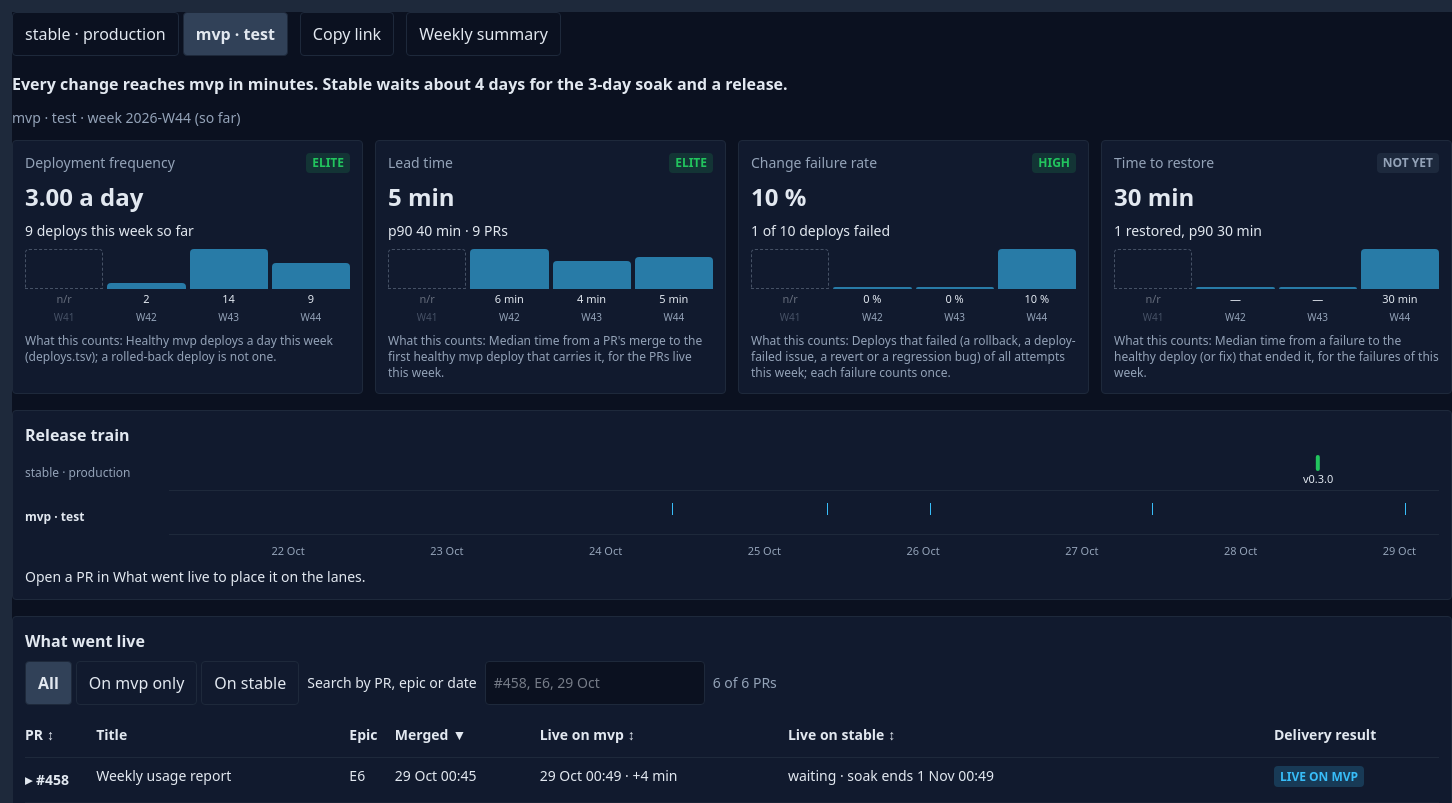
Test: Weekly summary and Copy link › Copy link copies this view's address
Click the button "Copy link" at [347, 34], box [300,12,394,56]
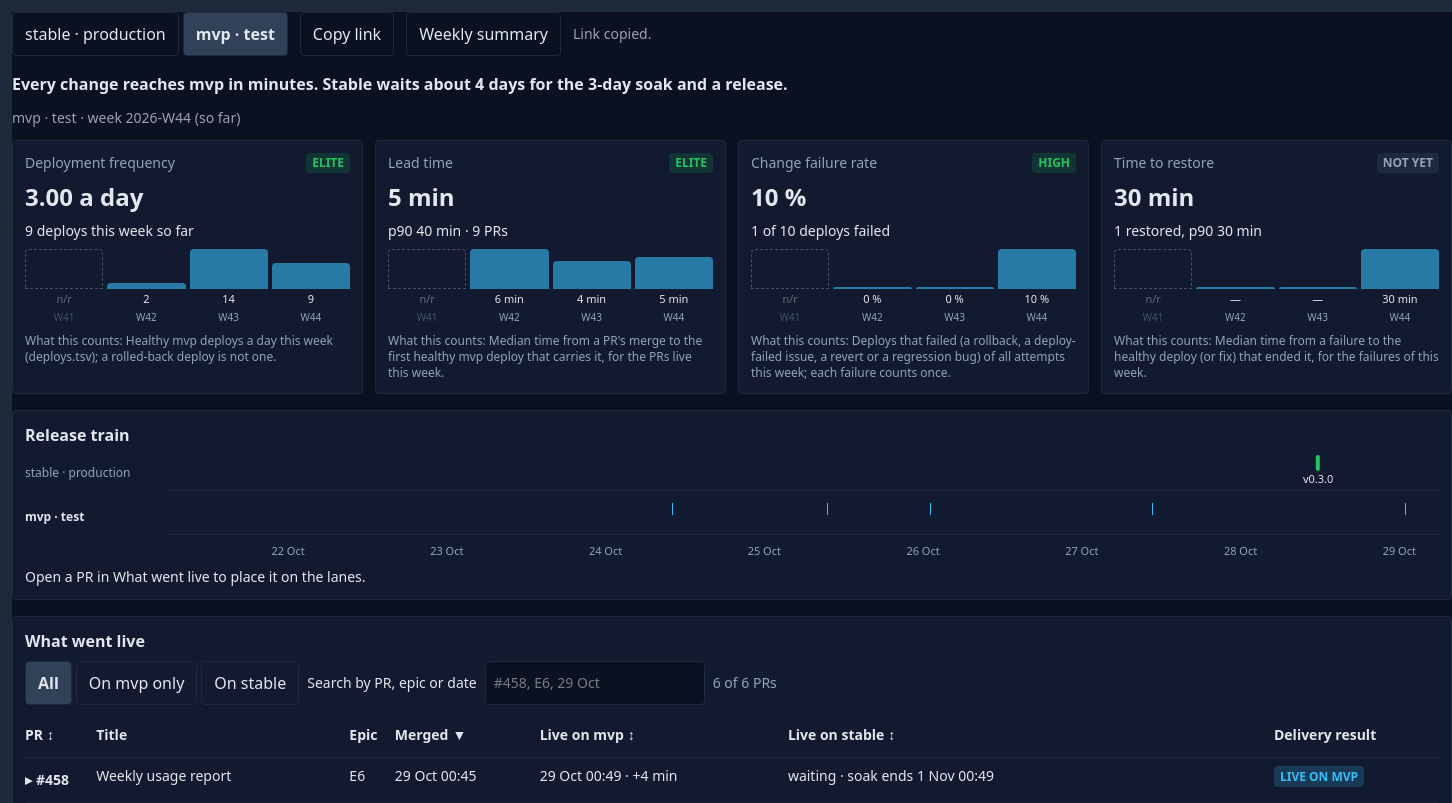
Expected: the text "Link copied." is shown, [573,24,651,44]
Click the button "Copy link" at [347, 34], box [300,12,394,56]
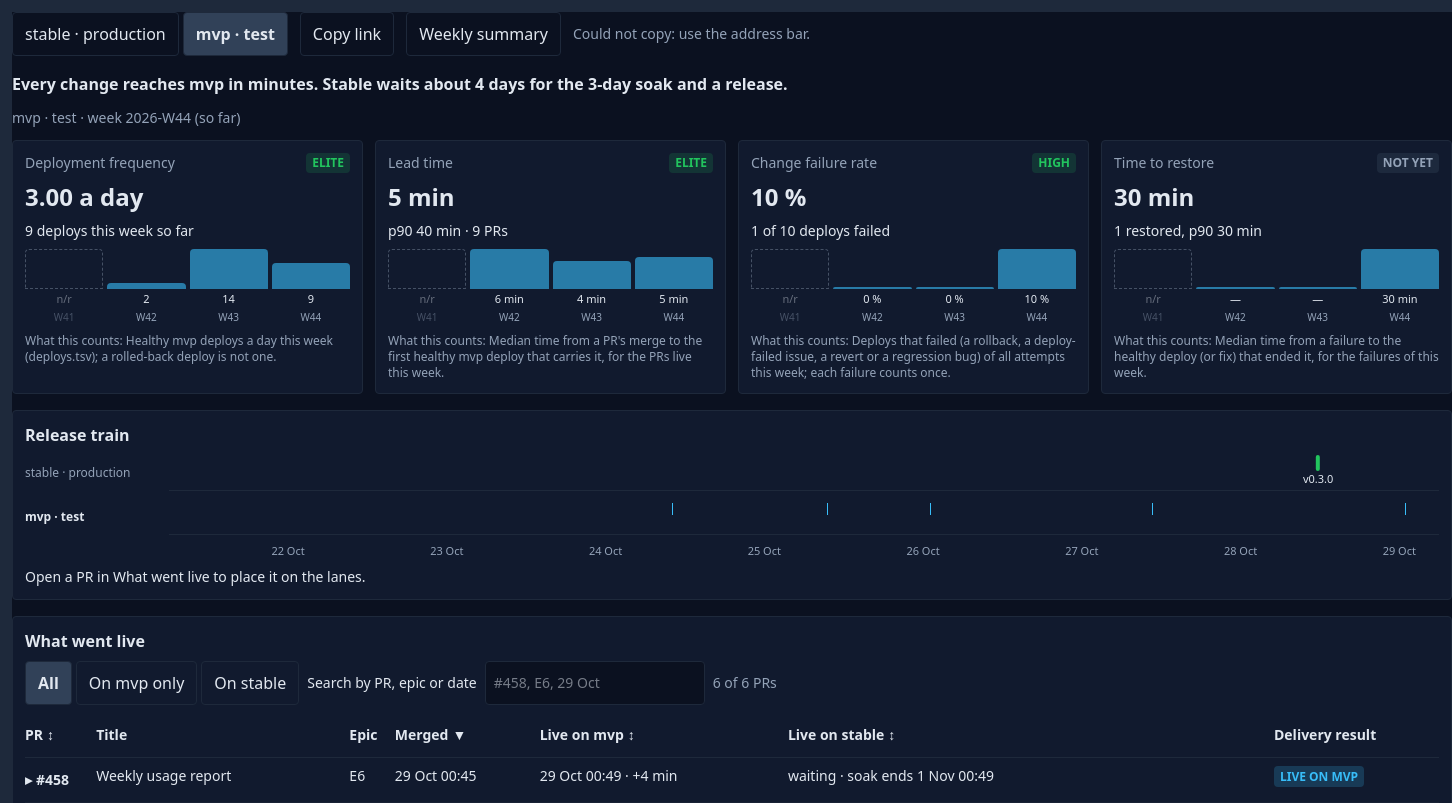
Expected: the text "Could not copy: use the address bar." is shown, [573,24,810,44]
